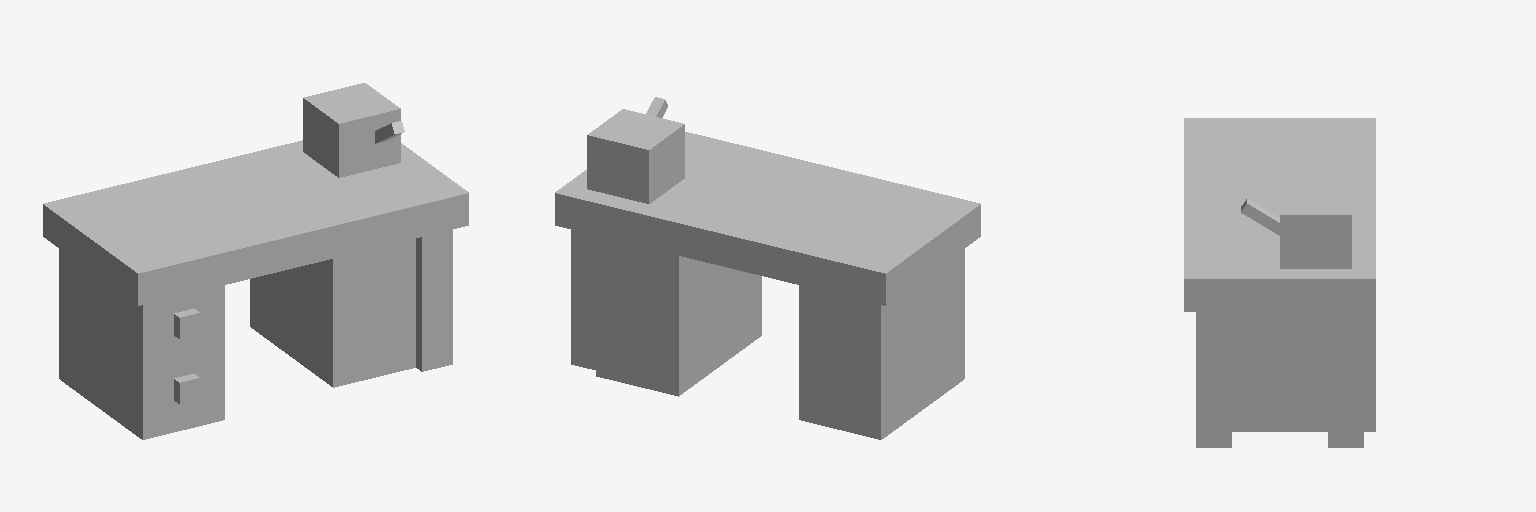
Rendered from circuit_table.obj.
3 views of the same model, side by side, from view 1: azimuth 30°, elevation 25°; view 2: azimuth 150°, elevation 25°; view 3: azimuth 270°, elevation 25° (orthographic).
Parts seen in each view (by area): view 1: desk; view 2: desk; view 3: desk.
Boxes of the visible parts, x1=… form: desk: x1=43, y1=83, x2=468, y2=439; desk: x1=555, y1=97, x2=980, y2=439; desk: x1=1184, y1=118, x2=1375, y2=447.
Bounding box in the file's own units: 2 × 1.33 × 1.